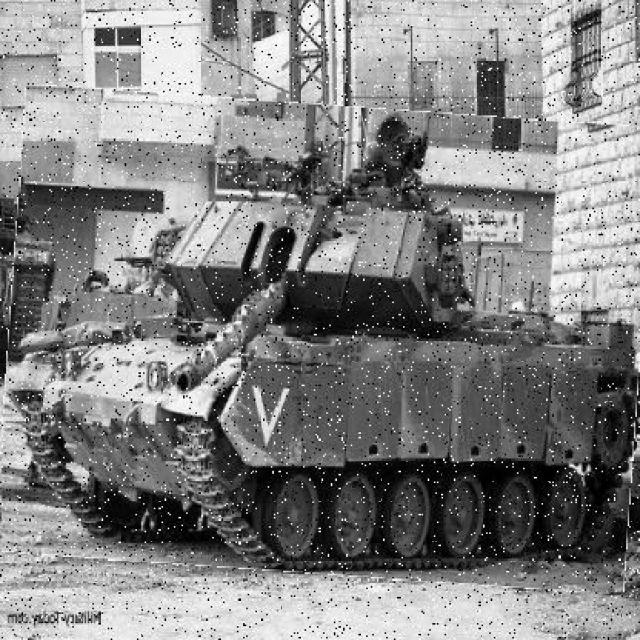Tank: (3, 95, 640, 587)
